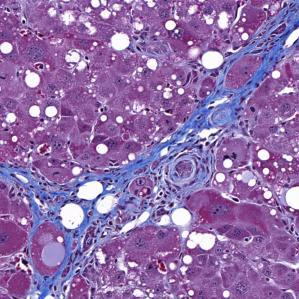fibrosis: (157, 87, 238, 190), (55, 167, 174, 229)
